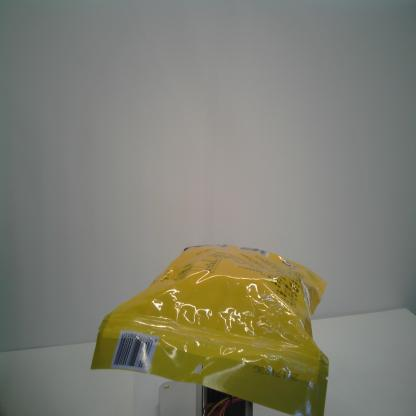Dried Food: (90, 242, 329, 416)
